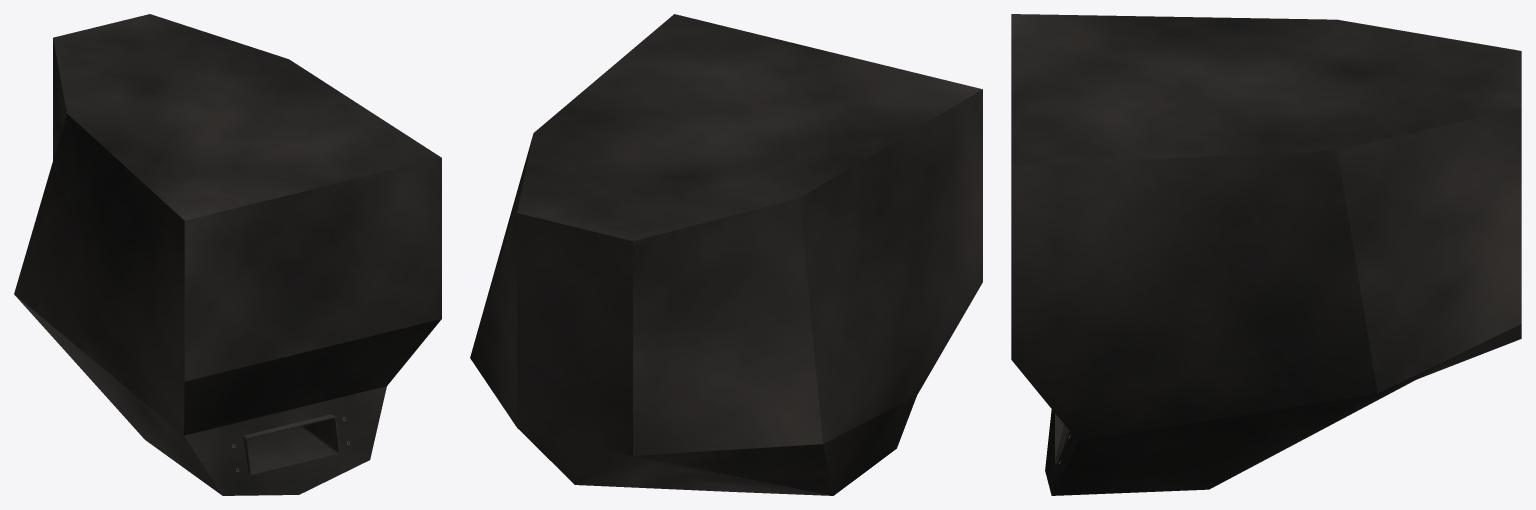
Rendered from e_support_hangar_d_model.fbx.
The picture shows the model from 3 angles, left to right: view 1: azimuth 30°, elevation 25°; view 2: azimuth 150°, elevation 25°; view 3: azimuth 270°, elevation 25°; orthographic projection. The views are drawn at different scales.
Visible parts, largest first — view 1: polySurface23; view 2: polySurface23; view 3: polySurface23.
Part boxes in pixels (box(x1,y1,x2,y2)): polySurface23: box(14, 14, 441, 495); polySurface23: box(470, 14, 982, 495); polySurface23: box(1011, 14, 1521, 495).
Size of the model in its own units: 3883 by 4087 by 4835.
2 materials, 1 textured.
